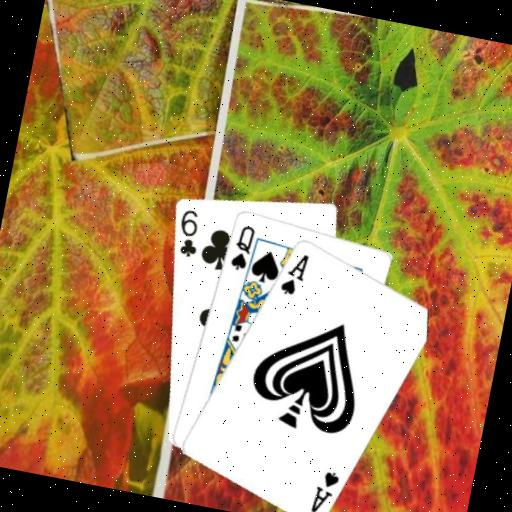6C: (171, 205, 206, 260)
AS: (276, 247, 311, 298), (307, 465, 342, 512)
QS: (226, 220, 257, 273)
